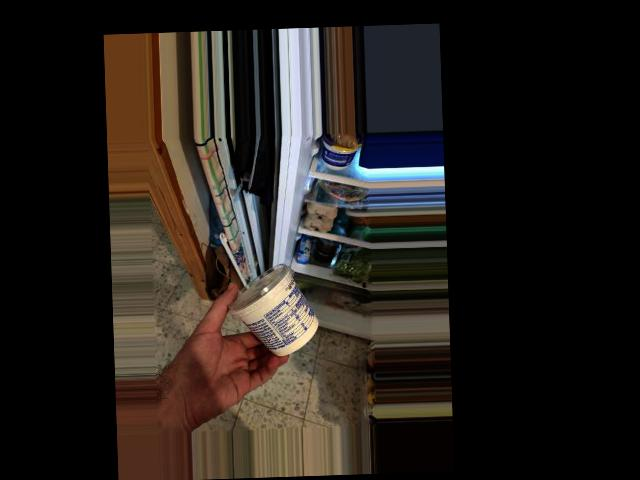cotage: (234, 259, 306, 345)
